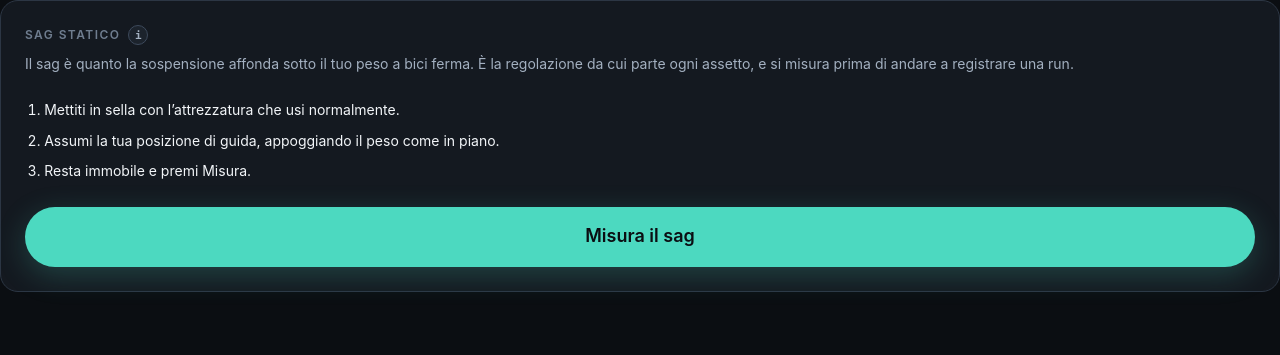
Scenario: flusso di misura del sag › rifiuta la misura se il rider si muove e lo spiega
Click the button "Misura il sag": (640, 237) [25,207,1255,267]
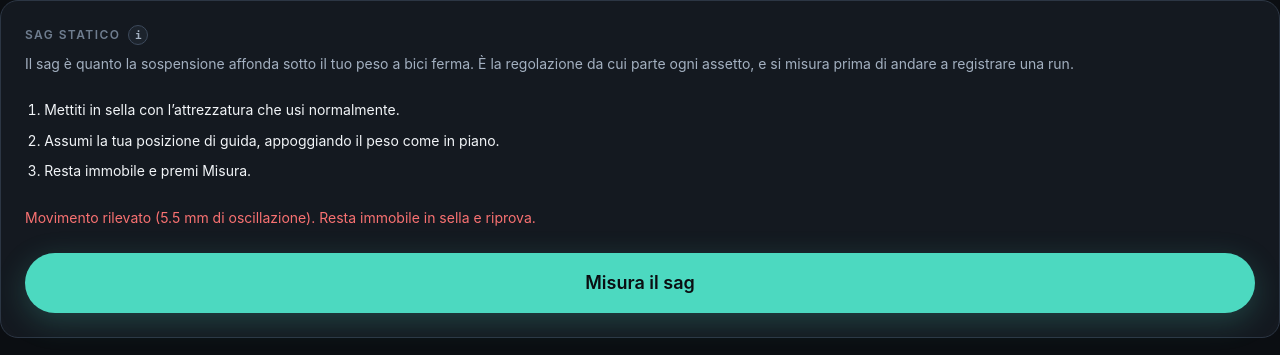
Now the message shows "Movimento rilevato", box [25,209,160,226]
